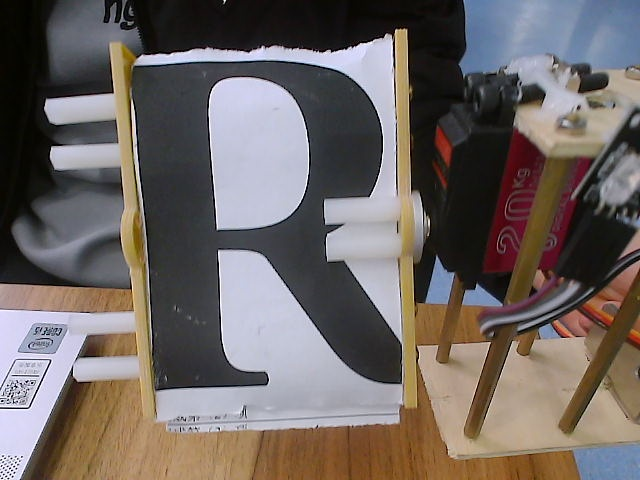R: (52, 8, 425, 439)
